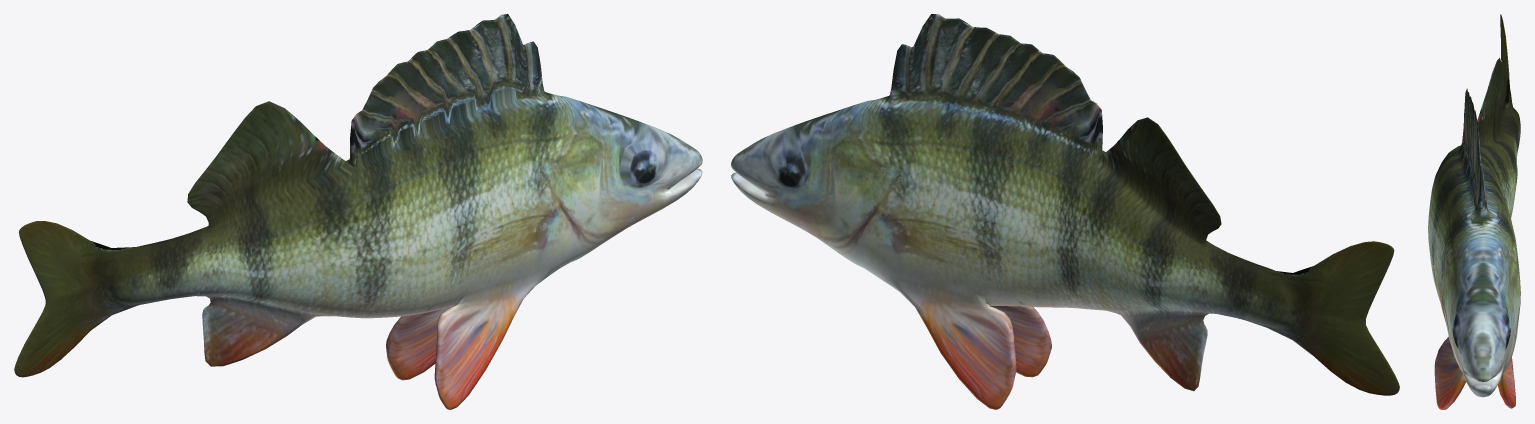
Rendered from bluefin_tuna.glb.
The picture shows the model from 3 angles, left to right: view 1: azimuth 30°, elevation 25°; view 2: azimuth 150°, elevation 25°; view 3: azimuth 270°, elevation 25°; orthographic projection. The views are drawn at different scales.
Parts seen in each view (by area): view 1: Cube_Cube.002; view 2: Cube_Cube.002; view 3: Cube_Cube.002.
Part boxes in pixels (x1=…): Cube_Cube.002: x1=14, y1=14, x2=702, y2=409; Cube_Cube.002: x1=731, y1=14, x2=1399, y2=409; Cube_Cube.002: x1=1428, y1=14, x2=1520, y2=409.
Bounding box in the file's own units: 4.04 × 2.06 × 0.5431.
Materials: 1 (1 with a texture image).
